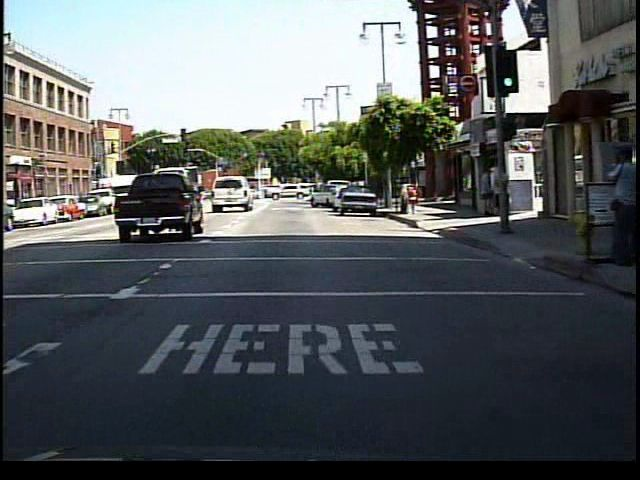person: (599, 145, 631, 267), (491, 162, 516, 230), (478, 166, 494, 219)
